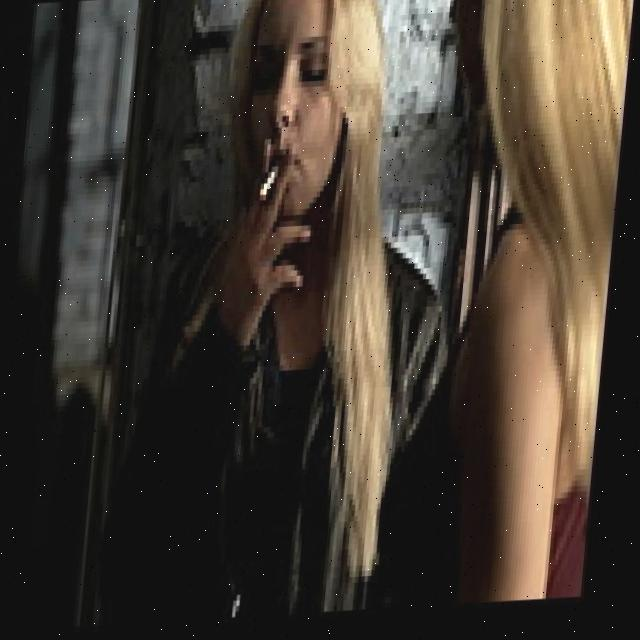cigarette: (262, 167, 280, 204)
